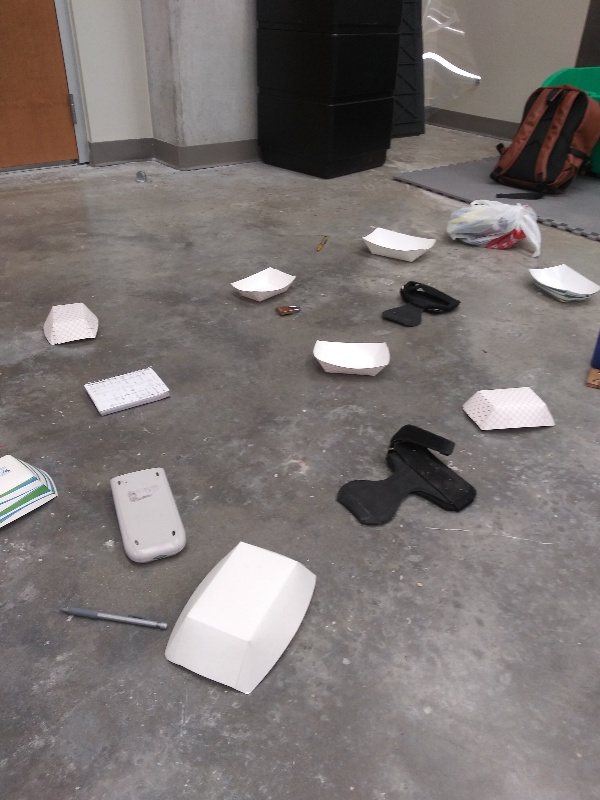plate: (162, 540, 323, 704), (1, 452, 67, 536), (458, 386, 559, 435), (308, 338, 395, 380), (526, 261, 600, 308), (38, 297, 106, 348), (357, 225, 446, 263), (228, 262, 302, 305)
